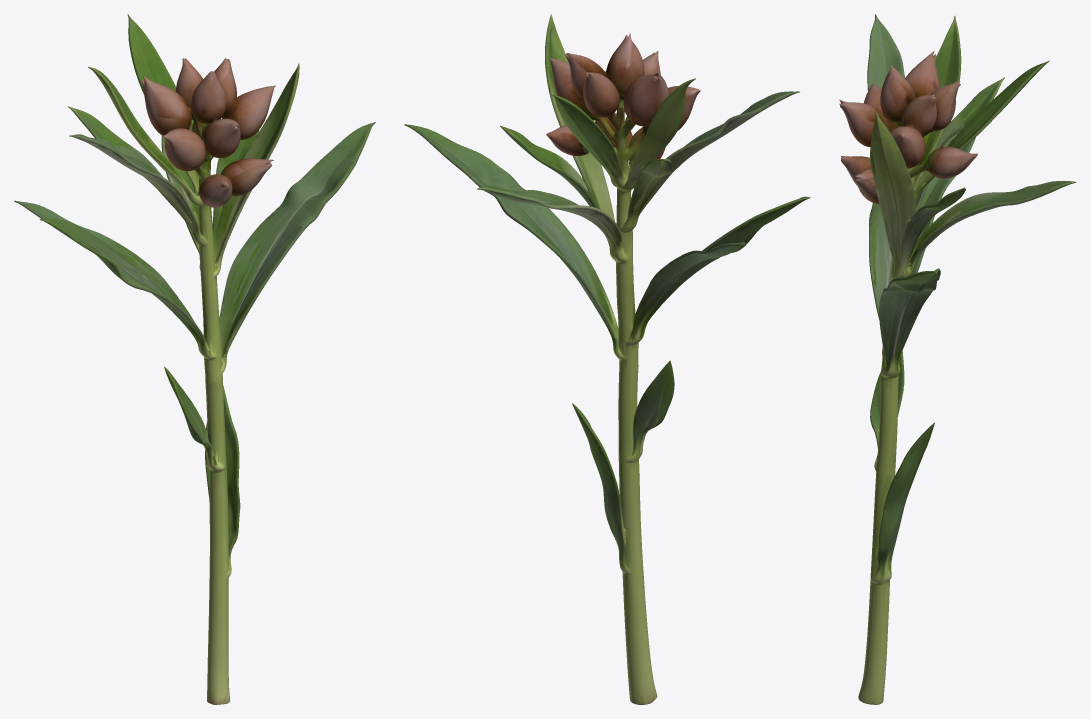
The model's file is yizhi.glb.
3 views of the same model, side by side, from view 1: azimuth 30°, elevation 25°; view 2: azimuth 150°, elevation 25°; view 3: azimuth 270°, elevation 25° (orthographic). The views are drawn at different scales.
Visible parts, largest first — view 1: node_0; view 2: node_0; view 3: node_0.
Boxes of the visible parts, x1,y1,x2,y2 form: node_0: (14,14,375,704); node_0: (404,14,810,704); node_0: (839,14,1076,704).
Size of the model in its own units: 0.6592 by 1.11 by 0.3728.
1 material, 1 textured.
